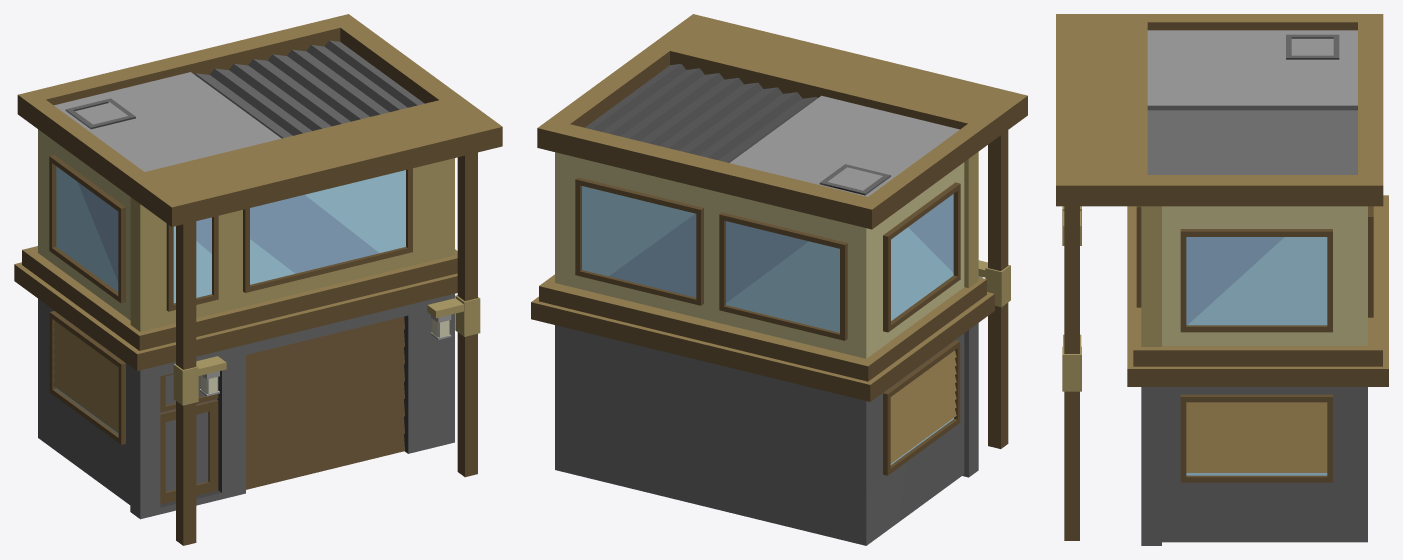
The model's file is cottage_002.fbx.
3 renders of one model, left to right at view 1: azimuth 30°, elevation 25°; view 2: azimuth 150°, elevation 25°; view 3: azimuth 270°, elevation 25°, orthographic. The views are drawn at different scales.
Visible parts, largest first — view 1: cottage_002; view 2: cottage_002; view 3: cottage_002.
Boxes of the visible parts, x1,y1,x2,y2 form: cottage_002: [14, 14, 502, 545]; cottage_002: [531, 14, 1027, 545]; cottage_002: [1056, 14, 1388, 545].
Bounding box in the file's own units: 627 × 616 × 507.
